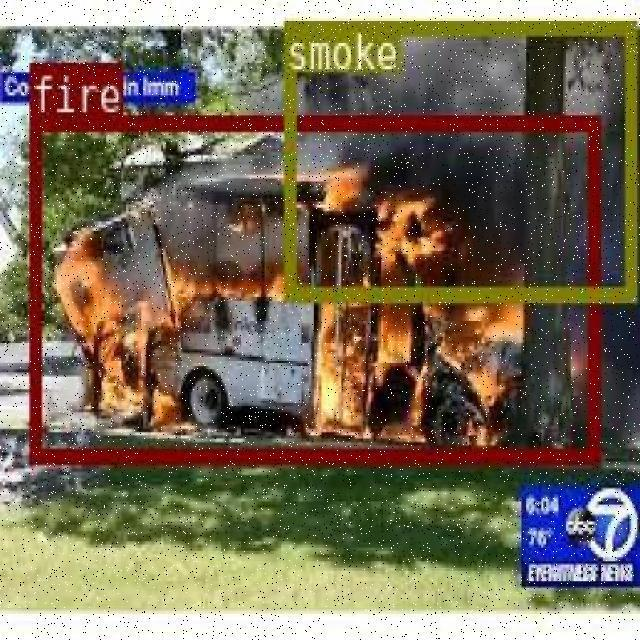Smoke: (284, 0, 633, 235)
